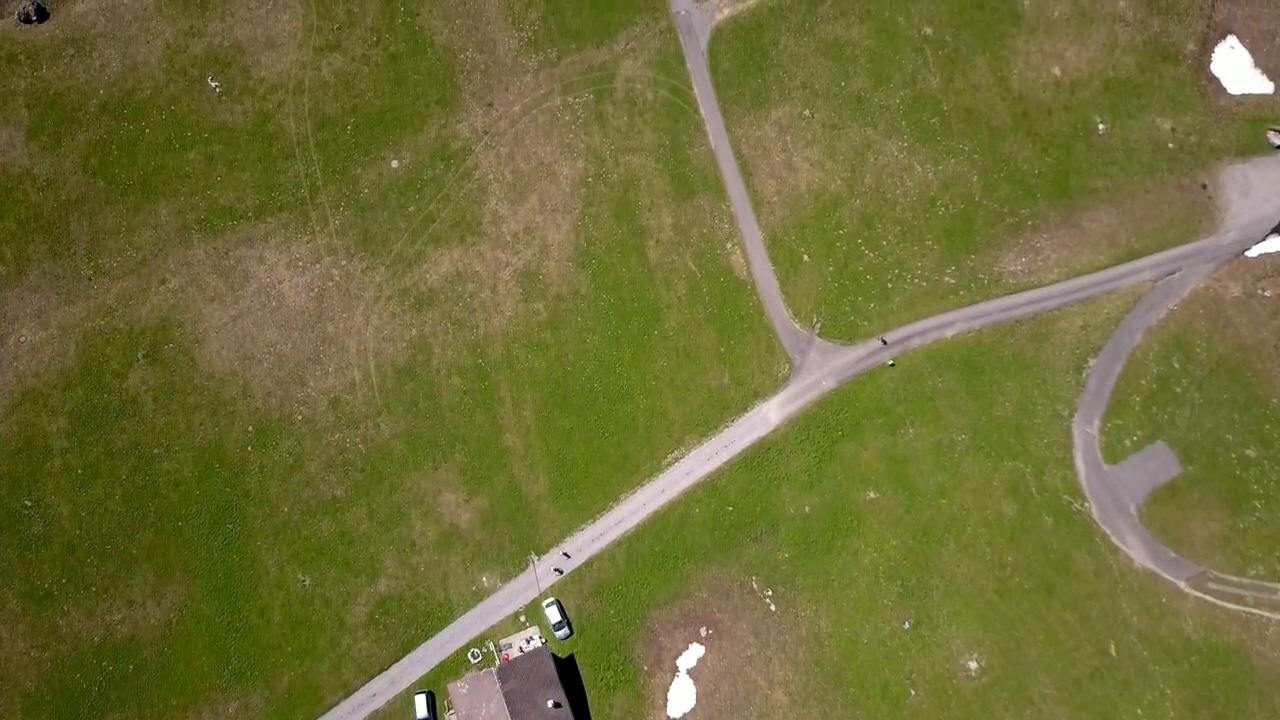araba: (536, 593, 575, 642)
insan: (557, 546, 573, 560), (552, 562, 566, 574)
